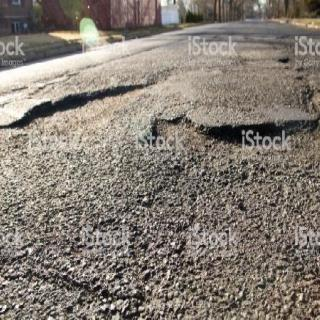pothole: (143, 115, 320, 173), (0, 80, 158, 139)
